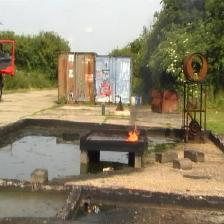fire: (125, 124, 140, 141)
